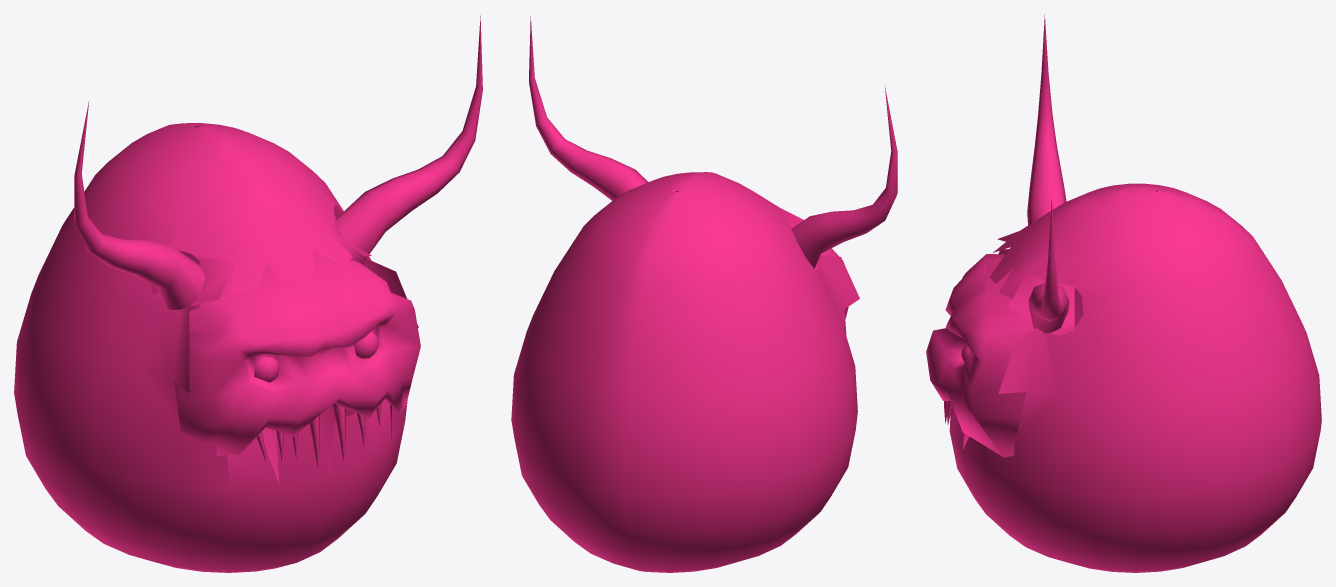
The model's file is monstercharacter.FBX.
The picture shows the model from 3 angles, left to right: view 1: azimuth 30°, elevation 25°; view 2: azimuth 150°, elevation 25°; view 3: azimuth 270°, elevation 25°; orthographic projection. The views are drawn at different scales.
Parts seen in each view (by area): view 1: Egg001; view 2: Egg001; view 3: Egg001.
Part boxes in pixels (bbox=[...]): Egg001: bbox=[14, 15, 482, 572]; Egg001: bbox=[511, 16, 897, 572]; Egg001: bbox=[926, 14, 1321, 572].
Size of the model in its own units: 116 by 143 by 110.
